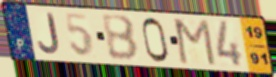0: (140, 16, 171, 64)
4: (214, 19, 245, 69)
5: (63, 12, 96, 59)
B: (100, 14, 141, 63)
J: (37, 12, 62, 56)
M: (173, 17, 218, 68)
